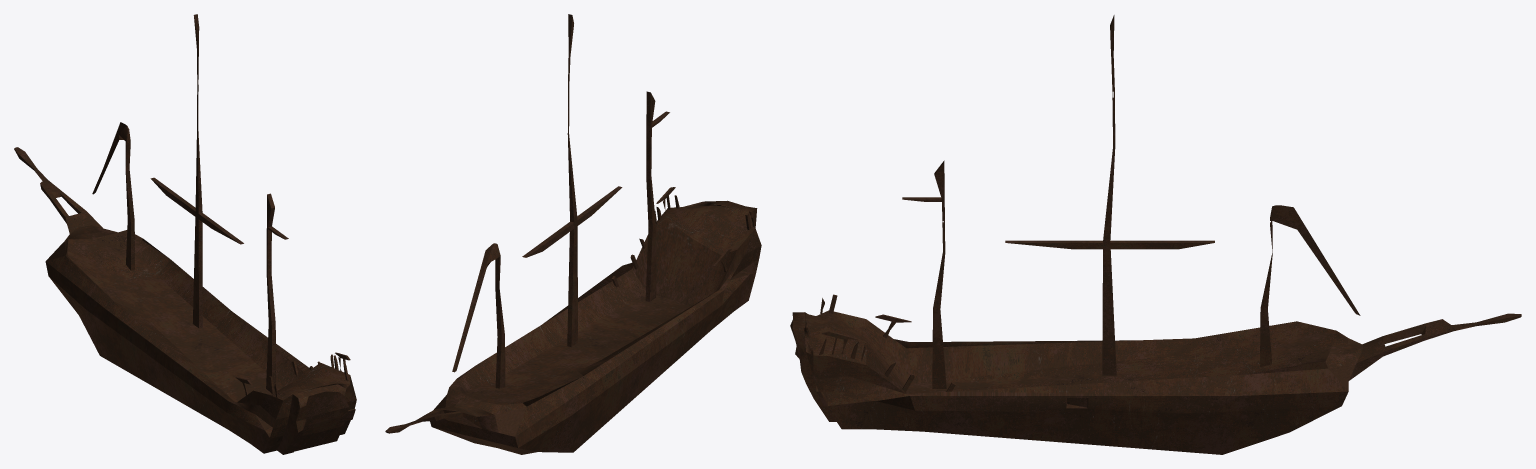
Rendered from Ship.fbx.
3 views of the same model, side by side, from view 1: azimuth 30°, elevation 25°; view 2: azimuth 150°, elevation 25°; view 3: azimuth 270°, elevation 25° (orthographic). The views are drawn at different scales.
Parts seen in each view (by area): view 1: ship; view 2: ship; view 3: ship.
Part boxes in pixels (<box>): ship: <box>14,14,356,454</box>; ship: <box>385,14,761,454</box>; ship: <box>790,15,1521,454</box>.
Bounding box in the file's own units: 1.78 × 6.5 × 10.21.
1 material, 1 textured.
